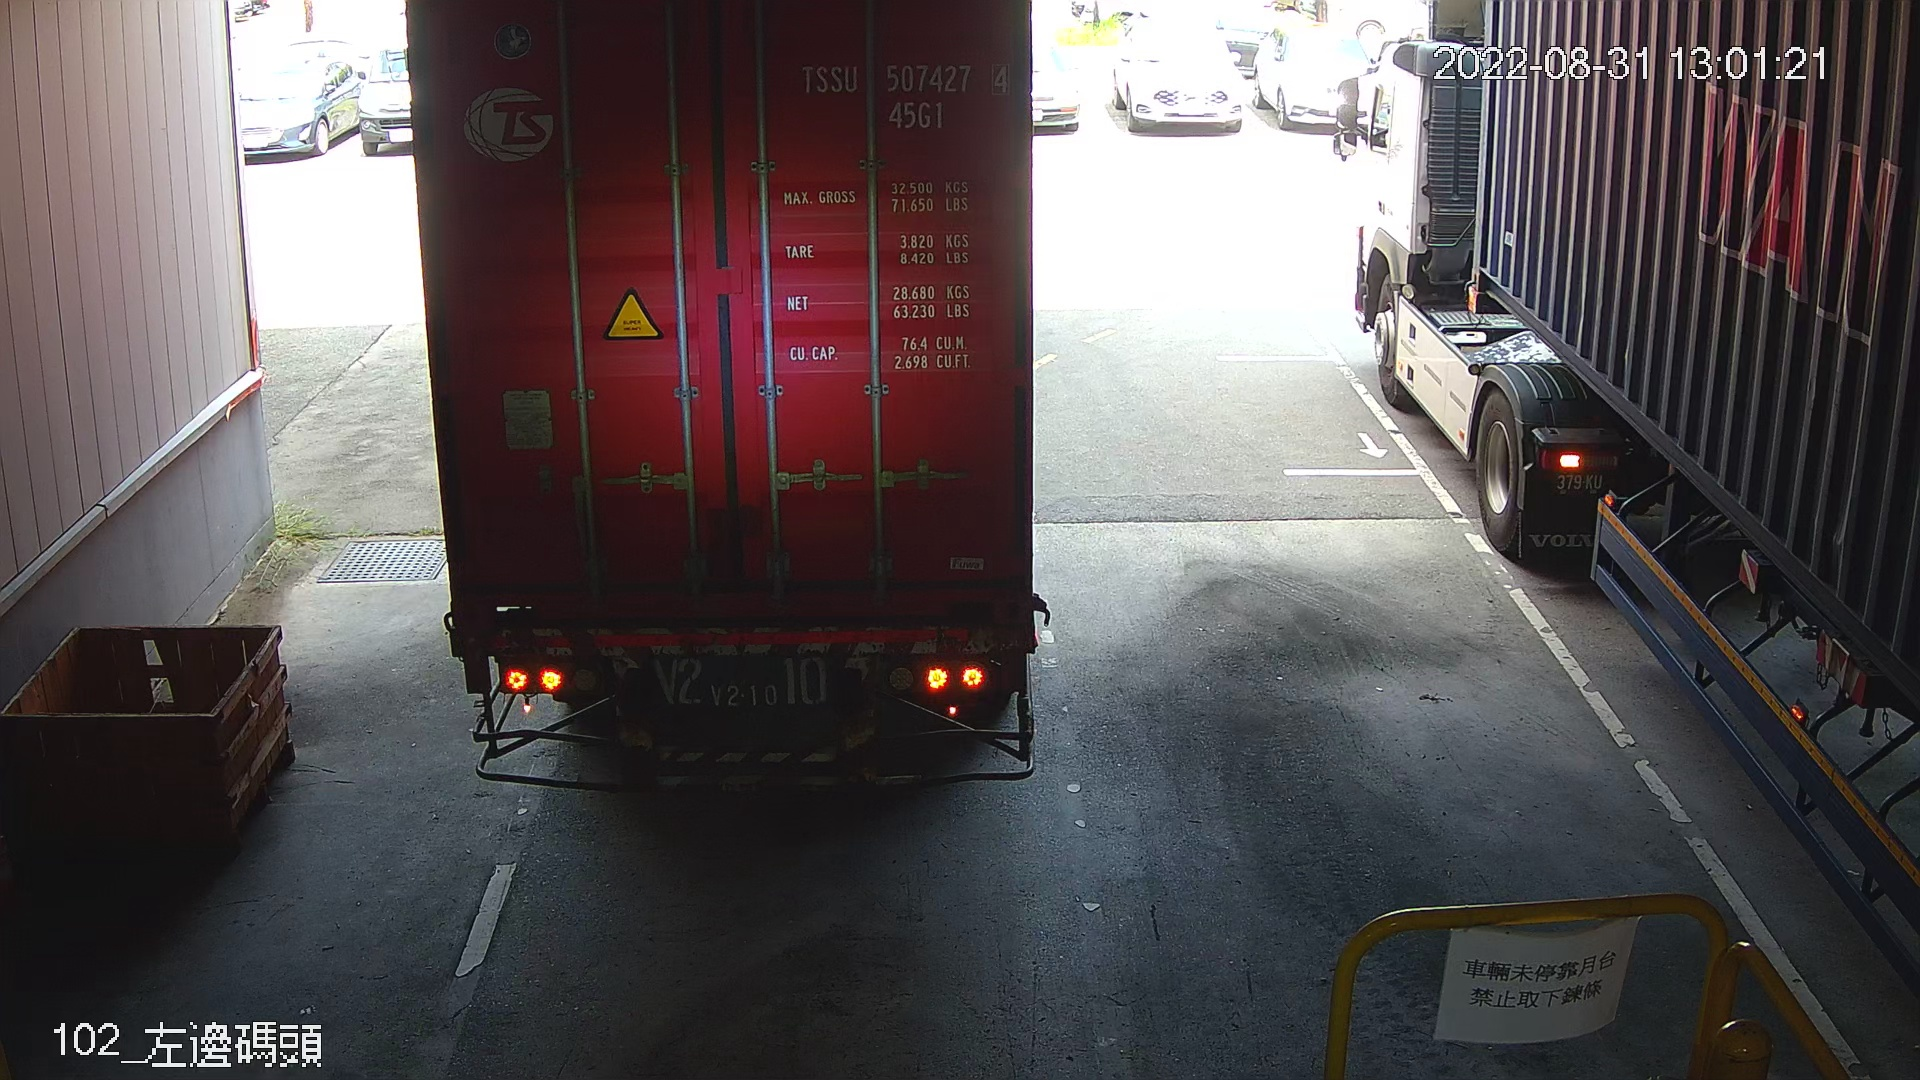container: (795, 51, 1022, 141)
